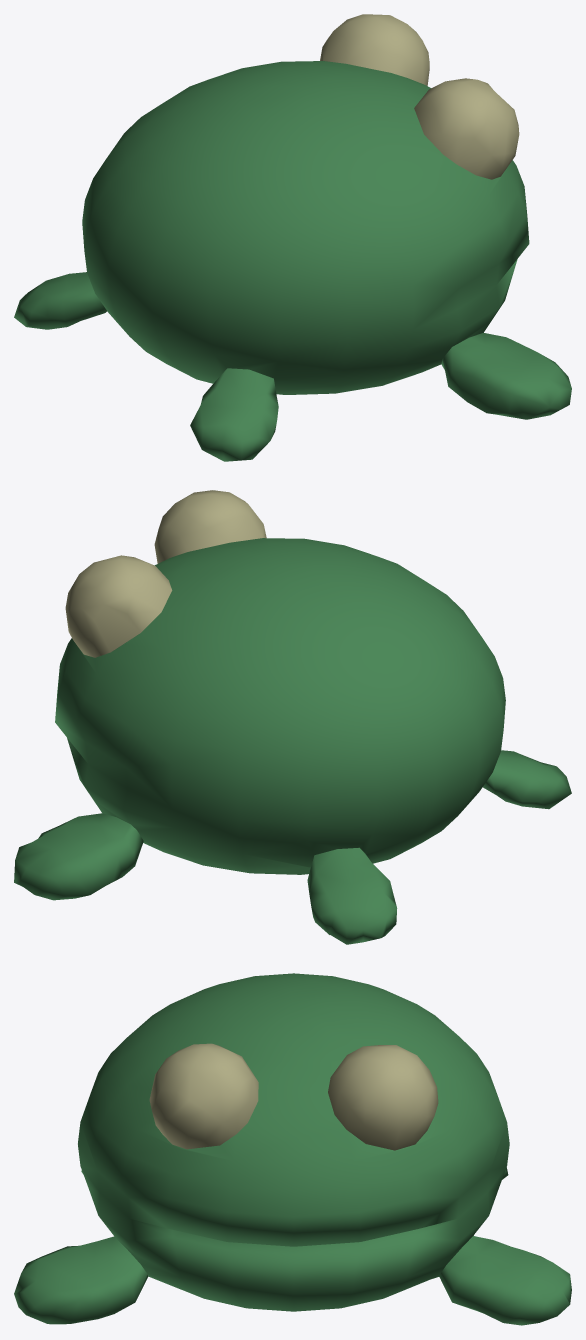
Rendered from Frog.fbx.
3 renders of one model, top to bottom at view 1: azimuth 30°, elevation 25°; view 2: azimuth 150°, elevation 25°; view 3: azimuth 270°, elevation 25°, orthographic.
Parts seen in each view (by area): view 1: pSphere30; view 2: pSphere30; view 3: pSphere30.
Boxes of the visible parts, <box> form: pSphere30: <box>14,14,571,461</box>; pSphere30: <box>14,490,571,944</box>; pSphere30: <box>14,973,571,1325</box>.
Bounding box in the file's own units: 13.66 × 9.05 × 16.77.
